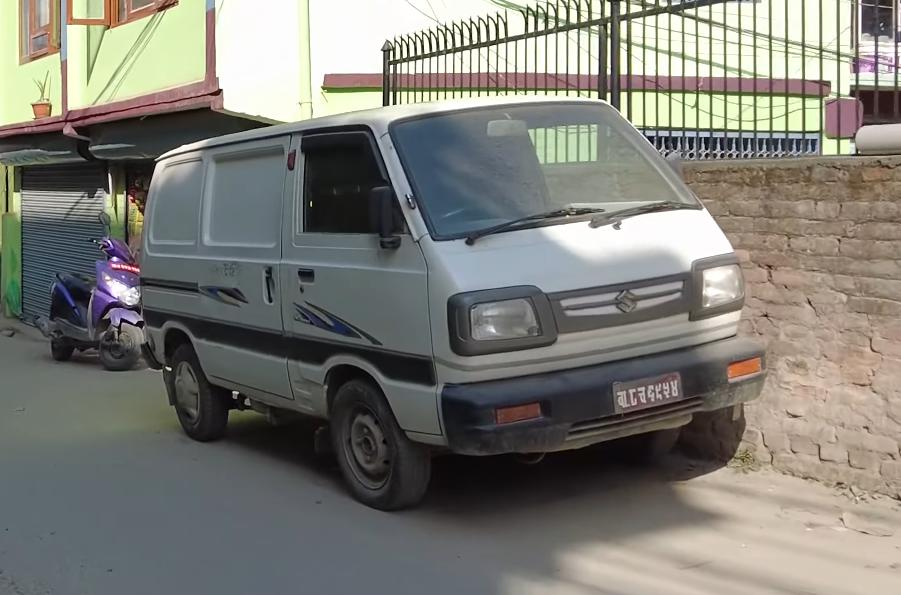scooter: (39, 228, 151, 372)
van: (135, 83, 794, 514)
